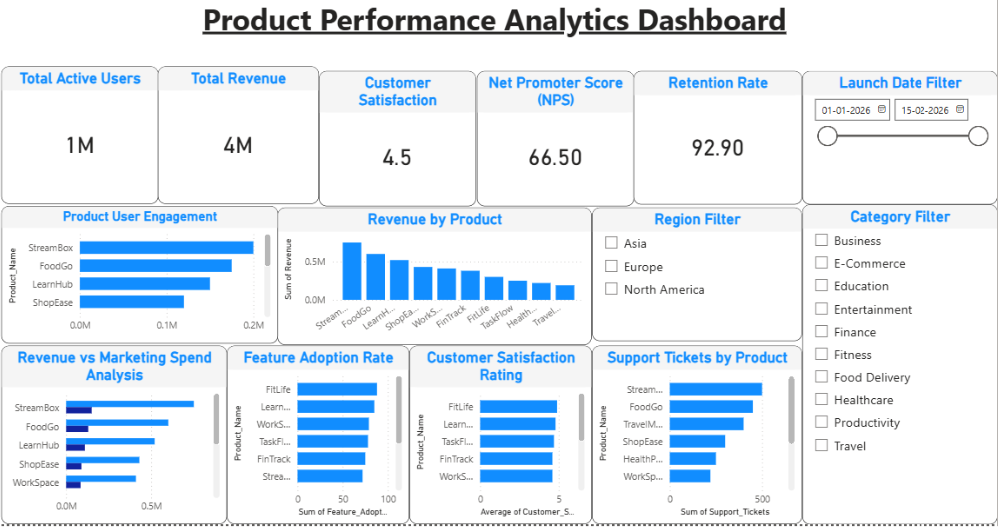

This screenshot's page, from the dashboard's own definition file:
{"tool":"powerbi","page":{"name":"Page 1","canvas":[1280,720],"ordinal":0},"visuals":[{"type":"card","title":"Total Active Users","fields":{"Values":["Sum(Sheet1.Monthly_Active_Users)"]},"box":[10,137.5,200,175],"z":0},{"type":"card","title":"Total Revenue","fields":{"Values":["Sum(Sheet1.Revenue)"]},"box":[210,137.5,205,175],"z":1000},{"type":"card","title":"Customer Satisfaction","fields":{"Values":["Avg(Sheet1.Customer_Satisfaction)"]},"box":[415,142.5,200,172.5],"z":2000},{"type":"card","title":"Net Promoter Score (NPS)","fields":{"Values":["Avg(Sheet1.NPS_Score)"]},"box":[615,142.5,200,172.5],"z":3000},{"type":"card","title":"Retention Rate","fields":{"Values":["Avg(Sheet1.Retention_Rate)"]},"box":[815,142.5,215,170],"z":4000},{"type":"clusteredColumnChart","title":"Revenue by Product","fields":{"Category":["Sheet1.Product_Name"],"Y":["Sum(Sheet1.Revenue)"]},"box":[362.5,317.5,400,175],"z":5000},{"type":"clusteredBarChart","title":"Product User Engagement","fields":{"Y":["Sum(Sheet1.Monthly_Active_Users)"],"Category":["Sheet1.Product_Name"]},"box":[10,315,352.5,175],"z":6000},{"type":"clusteredBarChart","title":"Revenue vs Marketing Spend Analysis","fields":{"Category":["Sheet1.Product_Name"],"Y":["Sum(Sheet1.Revenue)","Sum(Sheet1.Marketing_Spend)"]},"box":[10,492.5,287.5,227.5],"z":7000},{"type":"clusteredBarChart","title":"Customer Satisfaction Rating","fields":{"Y":["Avg(Sheet1.Customer_Satisfaction)"],"Category":["Sheet1.Product_Name"]},"box":[530,492.5,232.5,227.5],"z":8000},{"type":"clusteredBarChart","title":"Feature Adoption Rate","fields":{"Y":["Sum(Sheet1.Feature_Adoption)"],"Category":["Sheet1.Product_Name"]},"box":[297.5,492.5,232.5,227.5],"z":9000},{"type":"clusteredBarChart","title":"Support Tickets by Product","fields":{"Category":["Sheet1.Product_Name"],"Y":["Sum(Sheet1.Support_Tickets)"]},"box":[762.5,492.5,267.5,227.5],"z":10000},{"type":"slicer","title":"Category Filter","fields":{"Values":["Sheet1.Category"]},"box":[1030,312.5,250,407.5],"z":11000},{"type":"slicer","title":"Region Filter","fields":{"Values":["Sheet1.Region"]},"box":[762.5,317.5,267.5,170],"z":12000},{"type":"slicer","title":"Launch Date Filter","fields":{"Values":["Sheet1.Launch_Date"]},"box":[1030,142.5,250,170],"z":13000},{"type":"textbox","box":[176.1,45.7,923.9,82.6],"z":14000}]}

Visuals, with their boxes in screenshot pixels (x1, y1, x2, y2):
"Total Active Users" card: detection(8, 81, 163, 216)
"Total Revenue" card: detection(163, 81, 322, 216)
"Customer Satisfaction" card: detection(322, 84, 477, 218)
"Net Promoter Score (NPS)" card: detection(477, 84, 632, 218)
"Retention Rate" card: detection(632, 84, 798, 216)
"Revenue by Product" clusteredColumnChart: detection(281, 220, 591, 356)
"Product User Engagement" clusteredBarChart: detection(8, 218, 281, 354)
"Revenue vs Marketing Spend Analysis" clusteredBarChart: detection(8, 356, 231, 526)
"Customer Satisfaction Rating" clusteredBarChart: detection(411, 356, 591, 526)
"Feature Adoption Rate" clusteredBarChart: detection(231, 356, 411, 526)
"Support Tickets by Product" clusteredBarChart: detection(591, 356, 798, 526)
"Category Filter" slicer: detection(798, 216, 992, 526)
"Region Filter" slicer: detection(591, 220, 798, 352)
"Launch Date Filter" slicer: detection(798, 84, 992, 216)
textbox: detection(137, 9, 853, 73)
